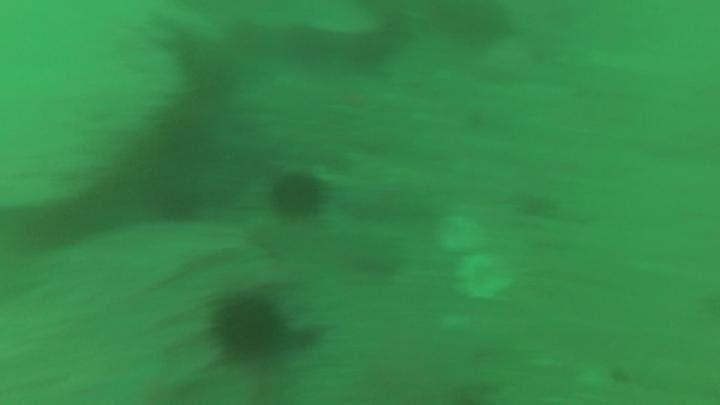echinus: (206, 287, 291, 366), (267, 169, 329, 222), (151, 184, 204, 226)
scallop: (433, 209, 489, 257)
starfish: (70, 348, 210, 405)
